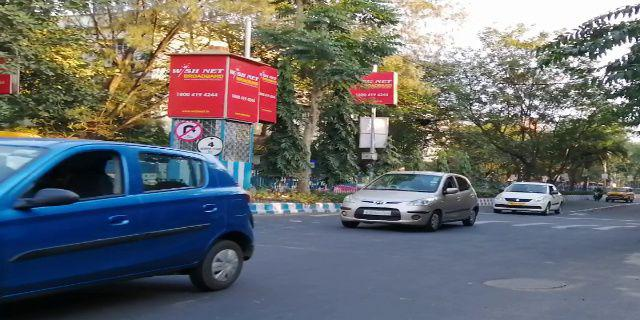Car: (1, 138, 258, 295), (336, 167, 480, 235), (494, 178, 565, 218)
